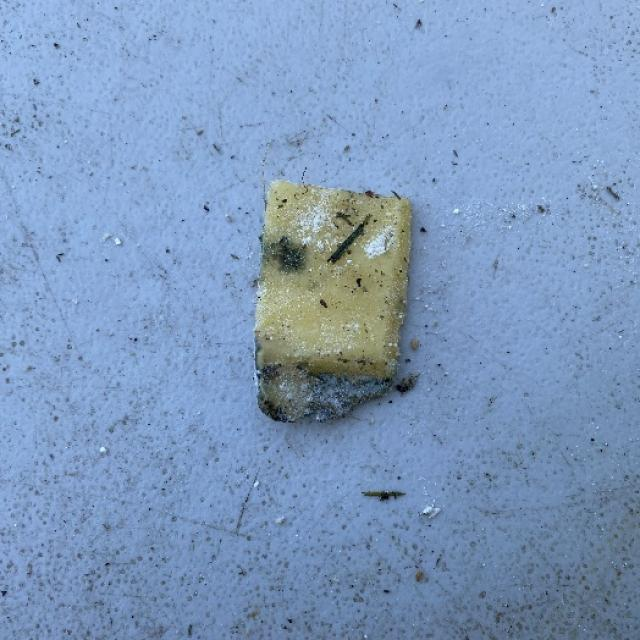organik: (253, 178, 412, 426)
